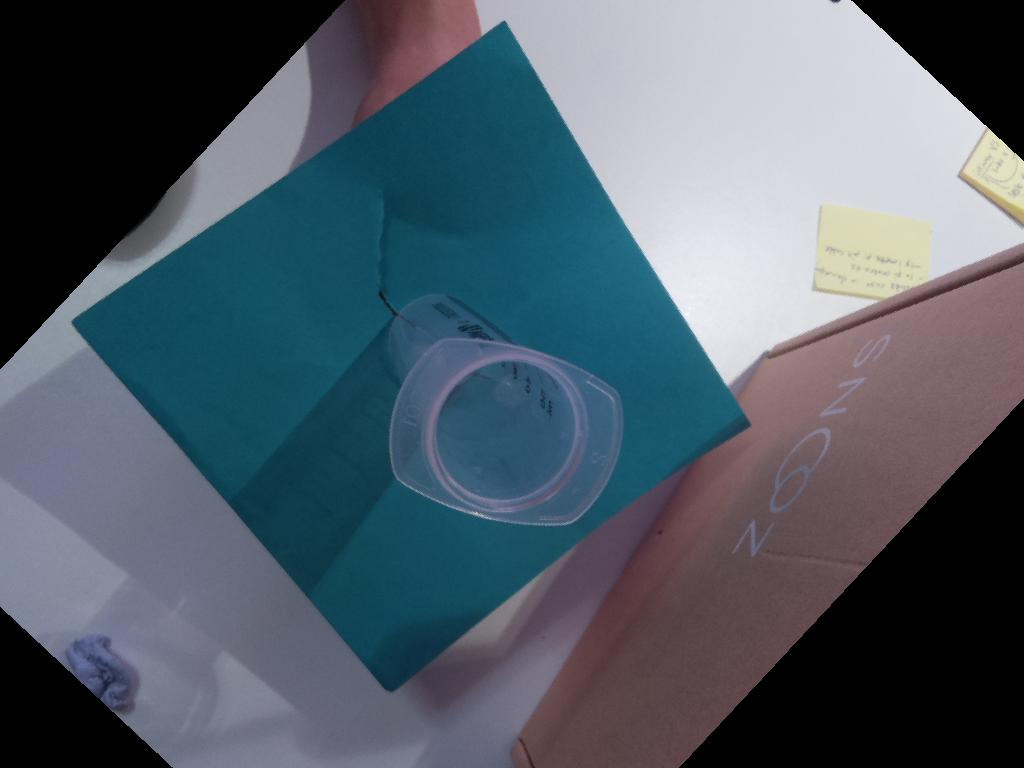clean: (385, 337, 625, 527)
